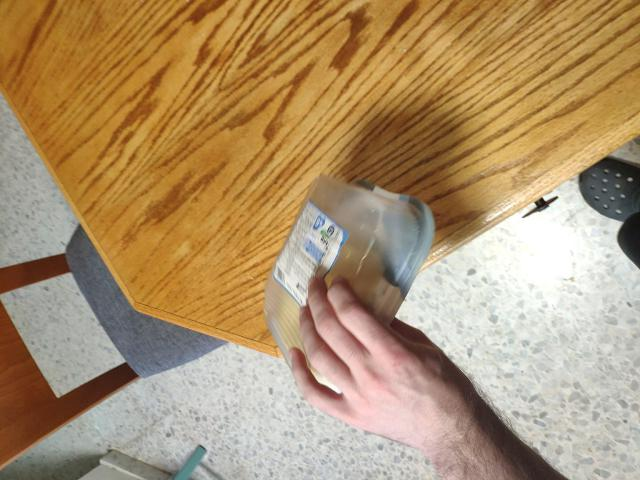cheese: (287, 186, 414, 362)
